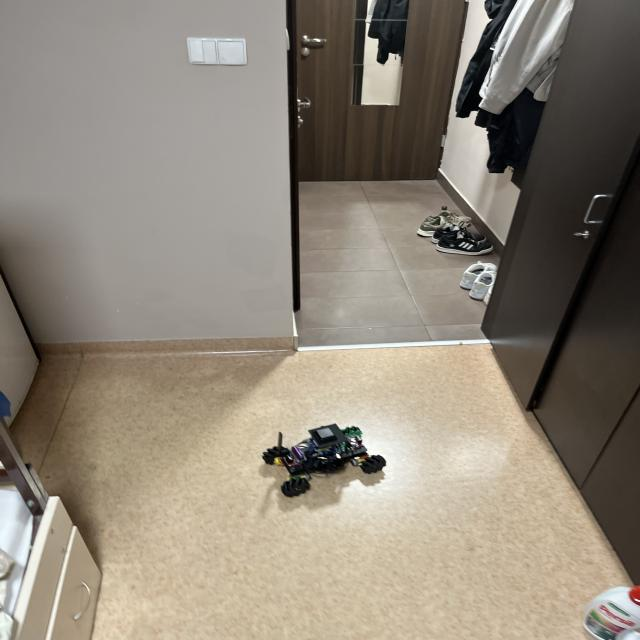robot: (262, 424, 386, 497)
